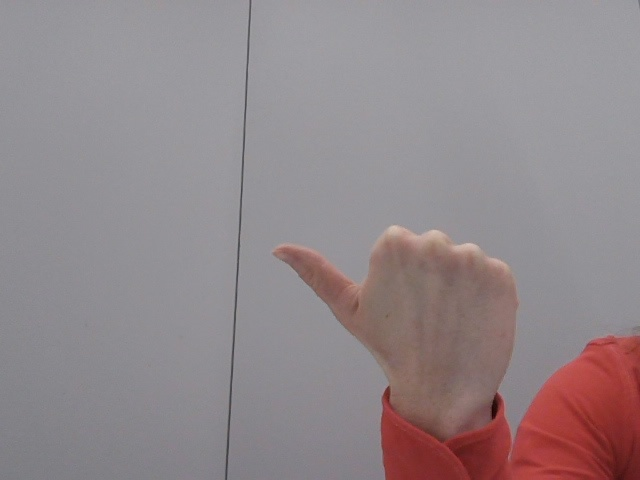right: (264, 203, 531, 453)
